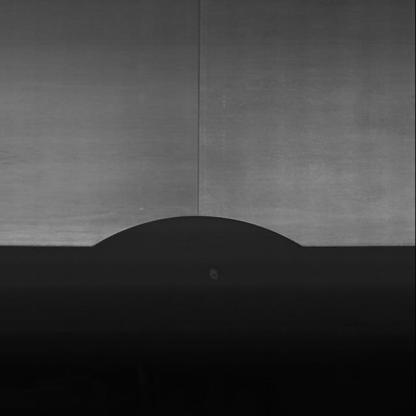crescent_gap: (91, 211, 310, 256)
welding_line: (176, 0, 214, 228)
